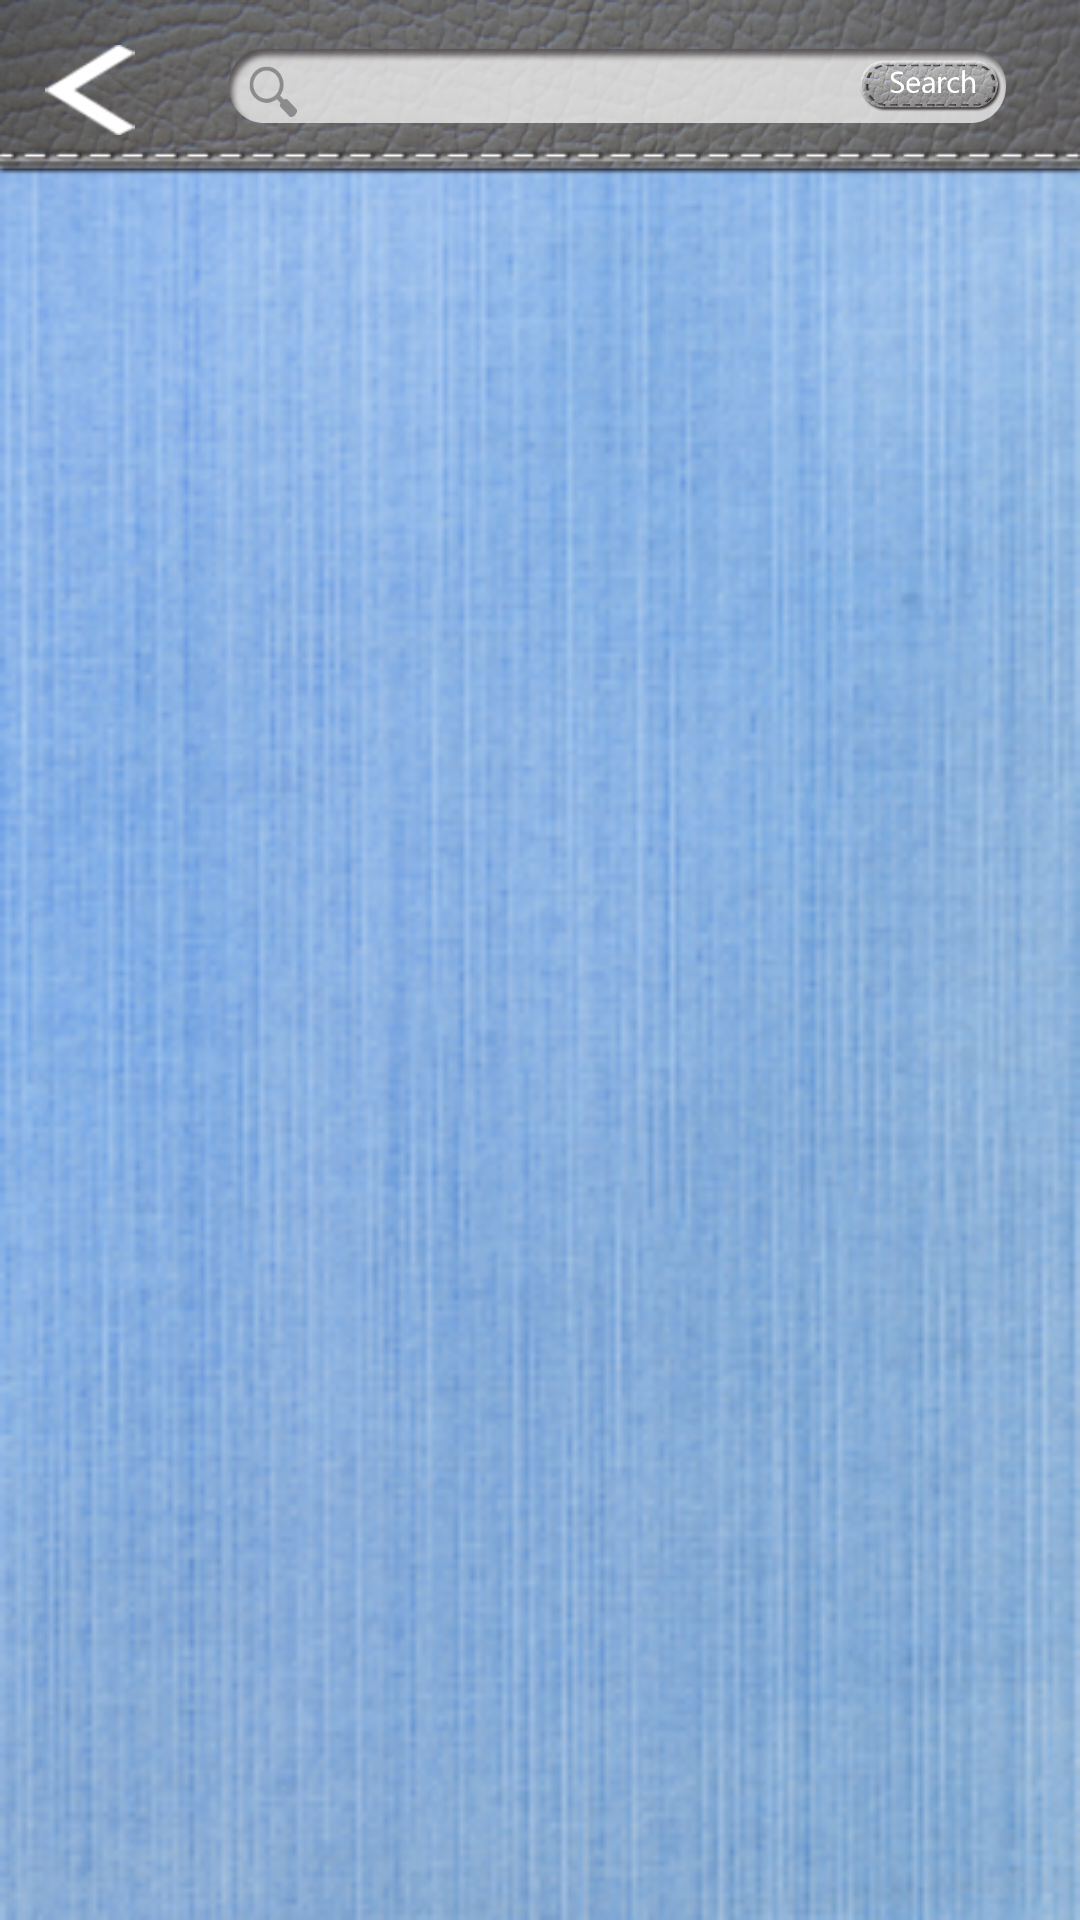

Screen size 1080px x 1920px. Icon name, then its center in pixels as (x,y):
back: (90,90)
